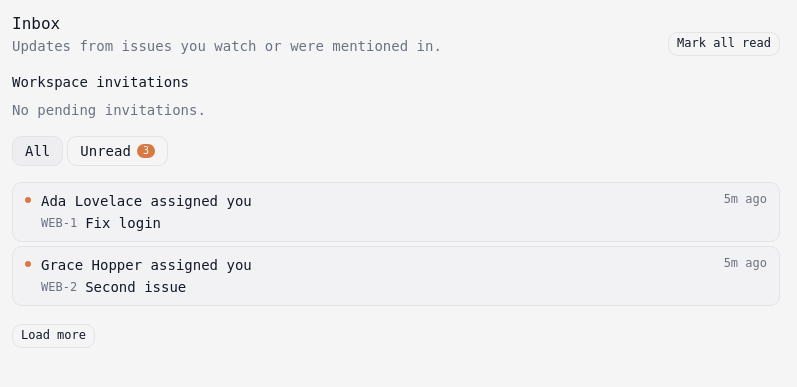
Scenario: inbox › load more appends older rows and dedupes by id
This screenshot has width=797, height=387.
Expected: the text "WEB-2" is shown, [41, 279, 77, 295]
Click the button "Load more": (54, 336) [12, 324, 95, 348]
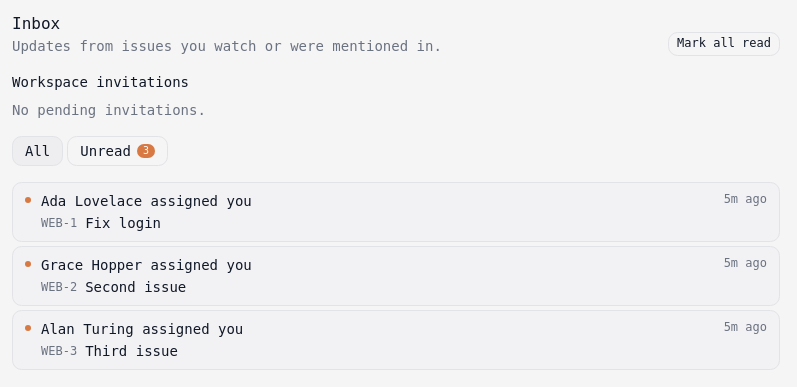
Expected: the text "WEB-3" is shown, [41, 343, 77, 359]
Expected: the text "WEB-2" is shown once, [41, 279, 77, 295]
Expected: the button "Load more" is gone
